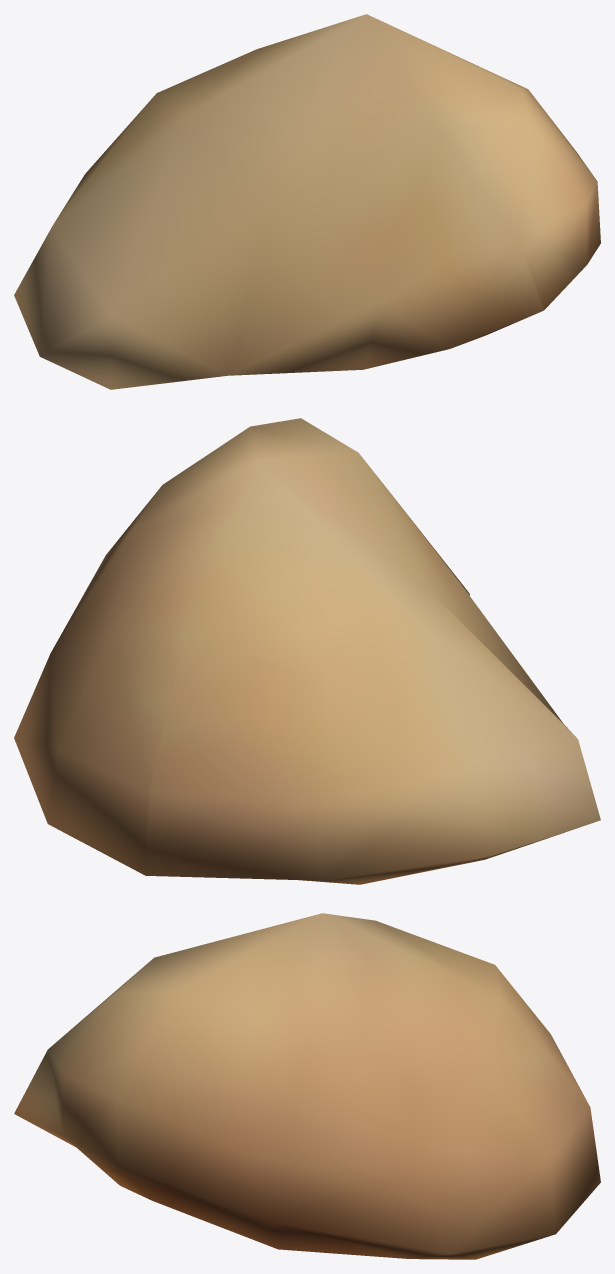
The model's file is SM_BreakfastProps_BreadCrumb_03.fbx.
3 renders of one model, top to bottom at view 1: azimuth 30°, elevation 25°; view 2: azimuth 150°, elevation 25°; view 3: azimuth 270°, elevation 25°, orthographic. The views are drawn at different scales.
Parts seen in each view (by area): view 1: SM_BreakfastProps_BreadCrumb_03_LOD0; view 2: SM_BreakfastProps_BreadCrumb_03_LOD0; view 3: SM_BreakfastProps_BreadCrumb_03_LOD0.
Part boxes in pixels (bbox=[...]): SM_BreakfastProps_BreadCrumb_03_LOD0: bbox=[14, 14, 600, 389]; SM_BreakfastProps_BreadCrumb_03_LOD0: bbox=[14, 418, 600, 884]; SM_BreakfastProps_BreadCrumb_03_LOD0: bbox=[14, 913, 600, 1259].
Bounding box in the file's own units: 1.64 × 1.64 × 0.9747.
Materials: 1 (1 with a texture image).
